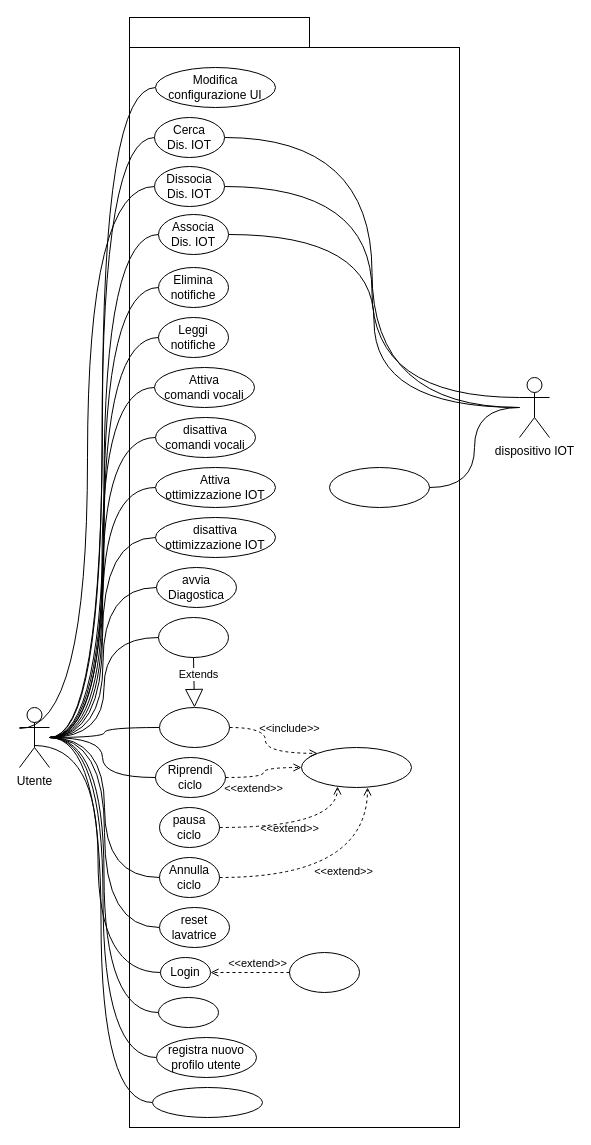
This 591x1145 diagram has some shape labels left out. The shapes that lost their labels are listed below. From the top down, each one's box as (x1, y1, x2, y2) in pixels, then its label:
(128, 16, 310, 48): Sistema software lavatrice
(328, 466, 430, 508): ottimizzazione consumi IOT
(158, 616, 228, 658): avvia lavaggio
(158, 706, 230, 748): Pianifica lavaggio
(300, 746, 412, 788): Esecuzione ciclo di lavaggio
(288, 952, 360, 992): Recupero password
(158, 996, 218, 1028): logout
(152, 1086, 262, 1118): modifica Profilo
